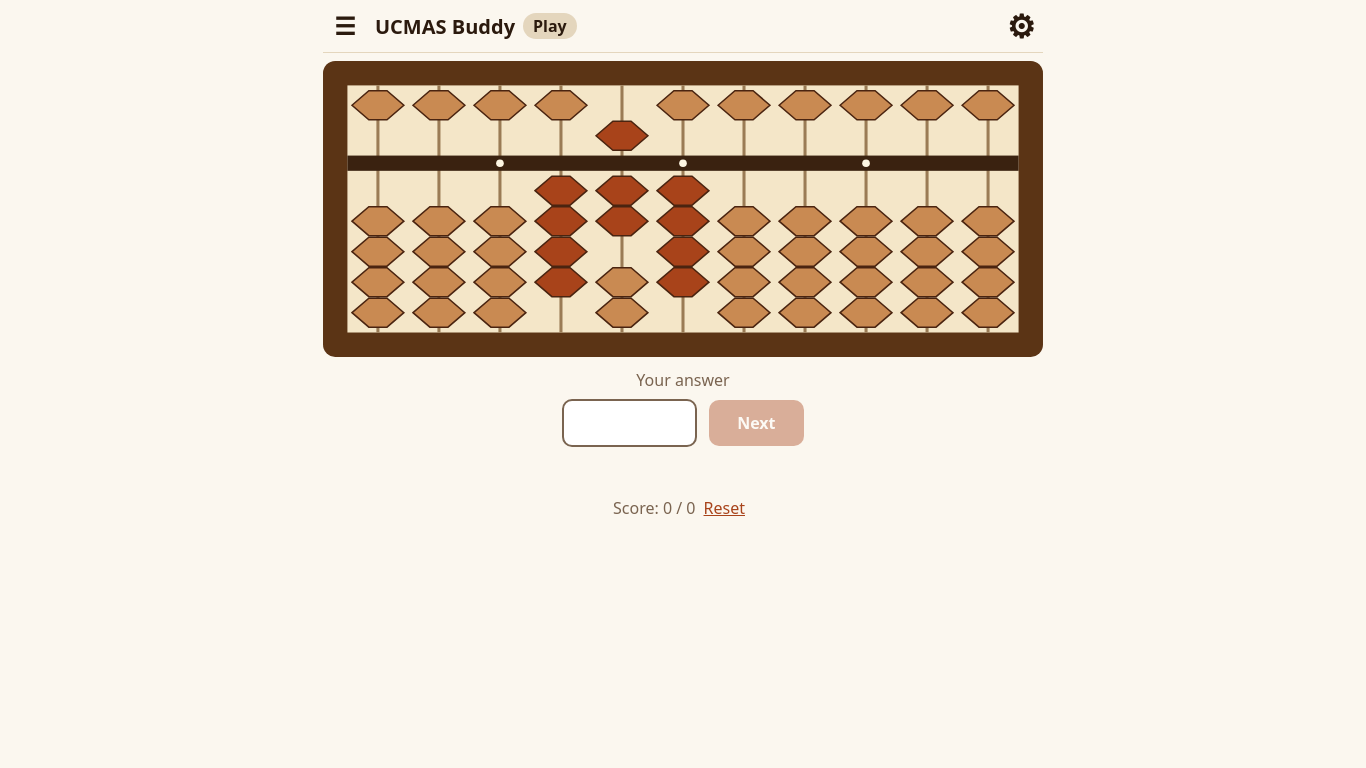
Test: <App> › voice answers (epic 004) › in a browser with speech recognition › offers the switch, off by default, at #/play (AC1)
Click the button named "open settings".
click(1021, 26)  # box [999,4,1043,48]
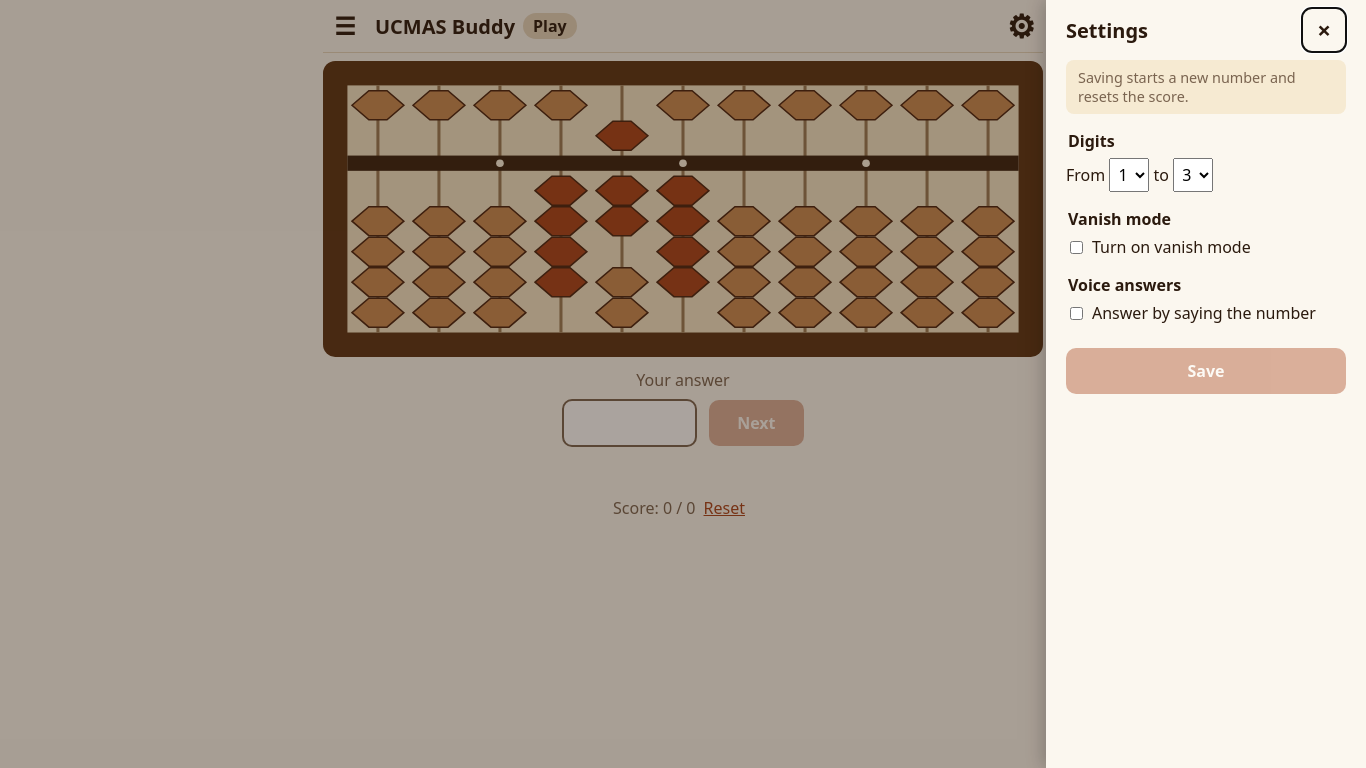
Expected: the checkbox labelled "Answer by saying the number" is not checked, [1070,306,1083,320]
